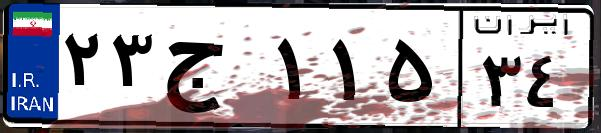1: (270, 28, 330, 110), (330, 28, 385, 110)
2: (57, 26, 110, 100)
3: (475, 38, 525, 113), (110, 28, 158, 98)
4: (525, 38, 570, 115)
5: (385, 28, 445, 110)
ج: (158, 20, 270, 120)
